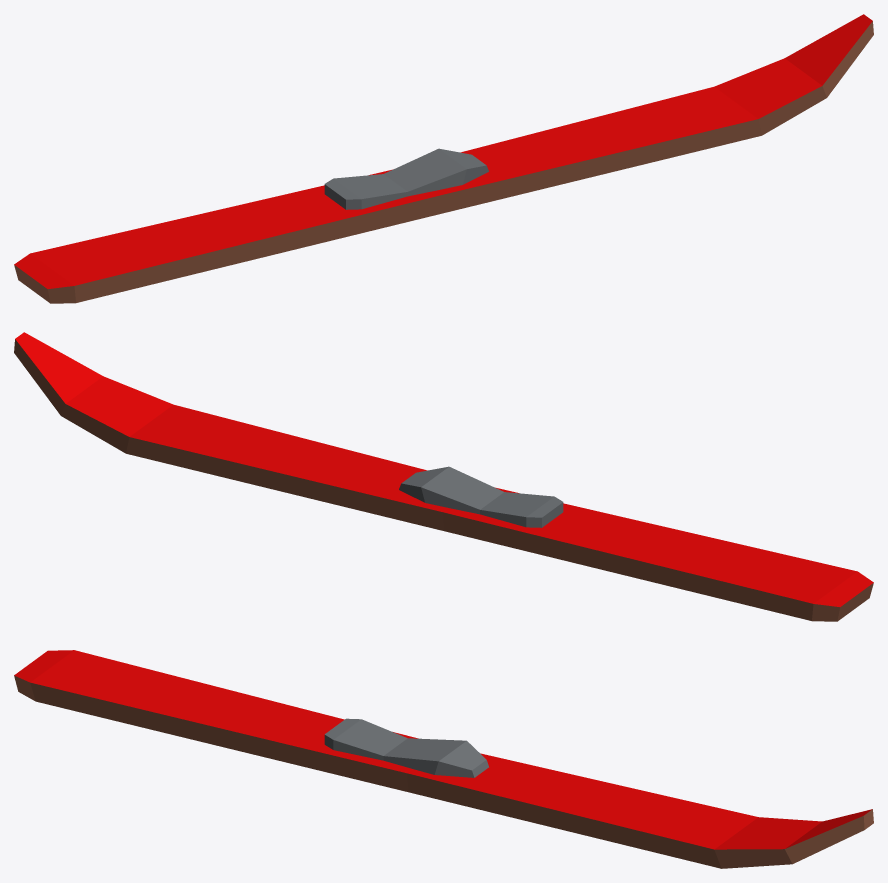
Rendered from LightWoodMechMediumSki1.fbx.
3 views of the same model, one above another, from view 1: azimuth 30°, elevation 25°; view 2: azimuth 150°, elevation 25°; view 3: azimuth 330°, elevation 25° (orthographic).
Visible parts, largest first — view 1: LightWoodMechMediumSki1; view 2: LightWoodMechMediumSki1; view 3: LightWoodMechMediumSki1.
Boxes of the visible parts, box(x1,y1,x2,y2) form: LightWoodMechMediumSki1: box(14, 14, 873, 303); LightWoodMechMediumSki1: box(14, 332, 873, 621); LightWoodMechMediumSki1: box(14, 650, 873, 868).
Size of the model in its own units: 219 by 18.71 by 20.02.
